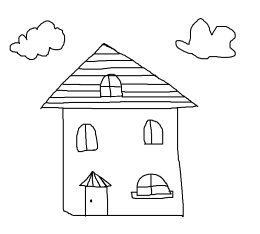closed_window: (131, 172, 173, 199), (75, 124, 98, 152), (141, 117, 164, 145)
clouds: (174, 16, 237, 59), (8, 19, 65, 60)
door: (74, 166, 117, 222)
roof: (35, 38, 199, 114)
wall: (59, 104, 186, 220)
